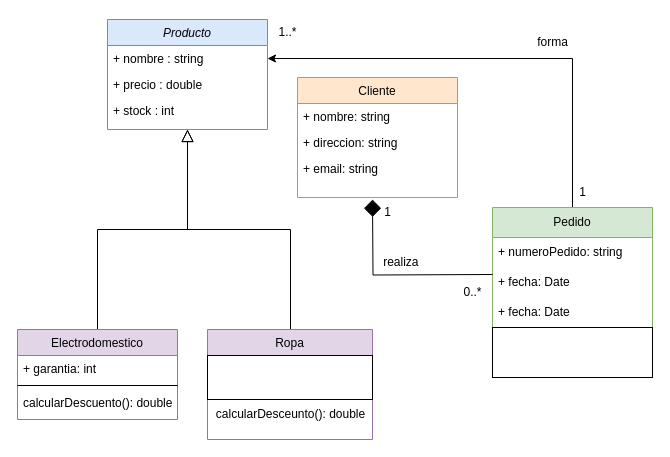
Some shapes in this 670 by 457 pixel diagram are drawn without their labels. Each missing label, with the centre of its shape:
"+talla: string +color: string calcularDesceunto(): double" belongs at pixel 289 377.
"productos: List<Producto> Cliente: cliente" belongs at pixel 572 352.
